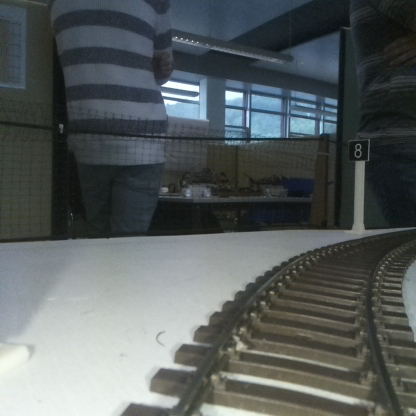black-info-8: (349, 140, 369, 233)
